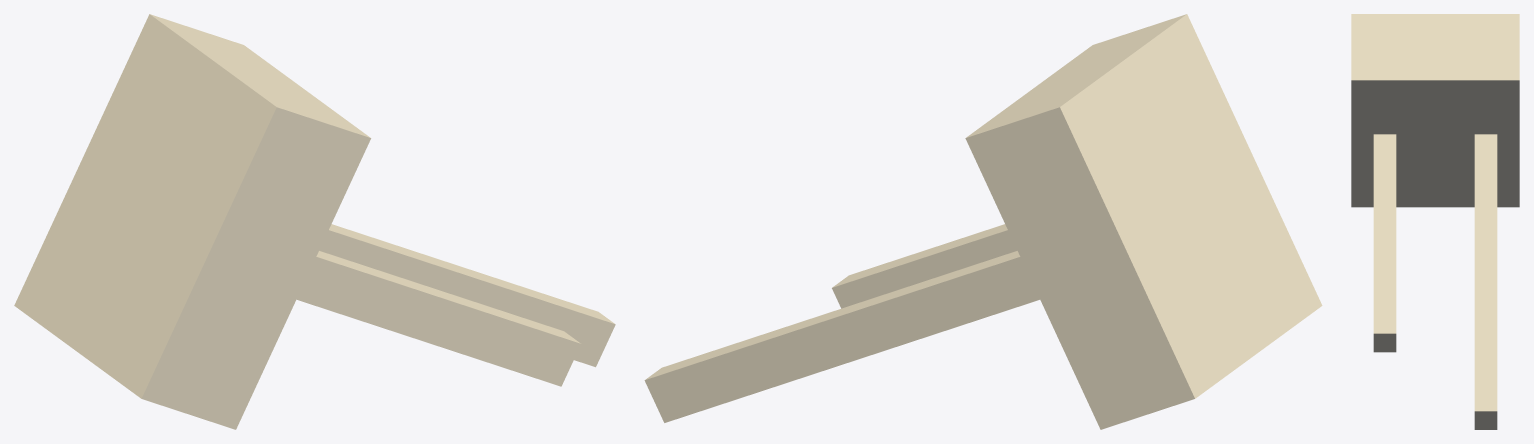
File: BRAT_M6_TURRET_R_07.glb
3 views of the same model, side by side, from view 1: azimuth 30°, elevation 25°; view 2: azimuth 150°, elevation 25°; view 3: azimuth 270°, elevation 25° (orthographic). The views are drawn at different scales.
Parts seen in each view (by area): view 1: BRAT_M6_TURRET_R_07.001; view 2: BRAT_M6_TURRET_R_07.001; view 3: BRAT_M6_TURRET_R_07.001.
Boxes of the visible parts, box(x1,y1,x2,y2) form: BRAT_M6_TURRET_R_07.001: box(14, 14, 615, 429); BRAT_M6_TURRET_R_07.001: box(644, 14, 1322, 429); BRAT_M6_TURRET_R_07.001: box(1351, 14, 1519, 429).
Size of the model in its own units: 0.6847 by 0.4946 by 0.266.
